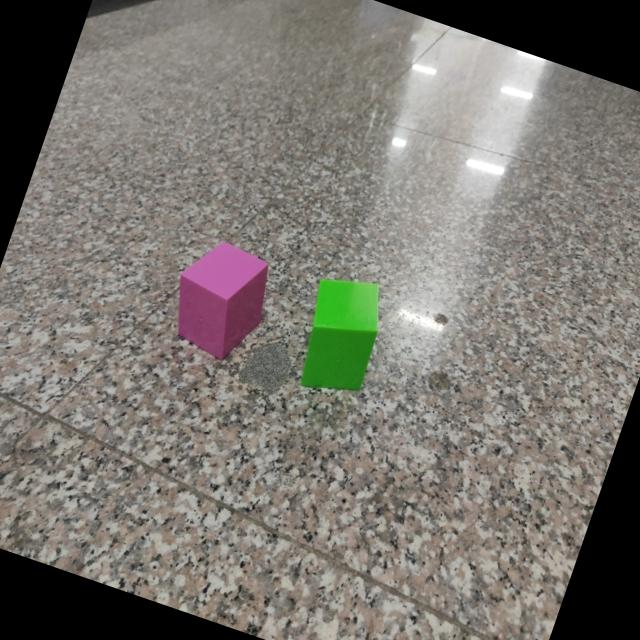green: (299, 279, 378, 393)
pink: (176, 243, 268, 361)
